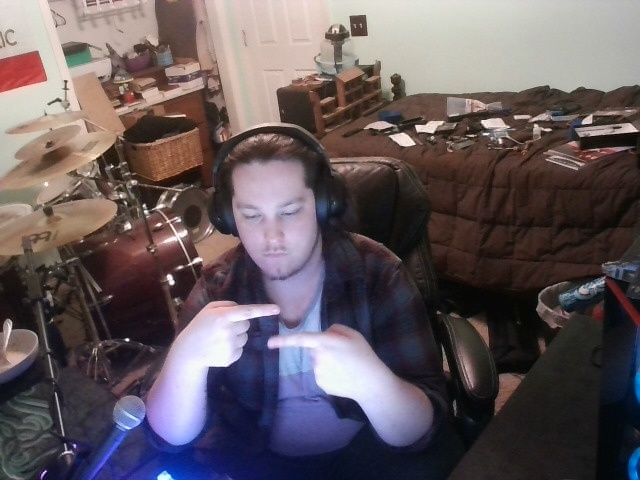go: (183, 283, 382, 408)
